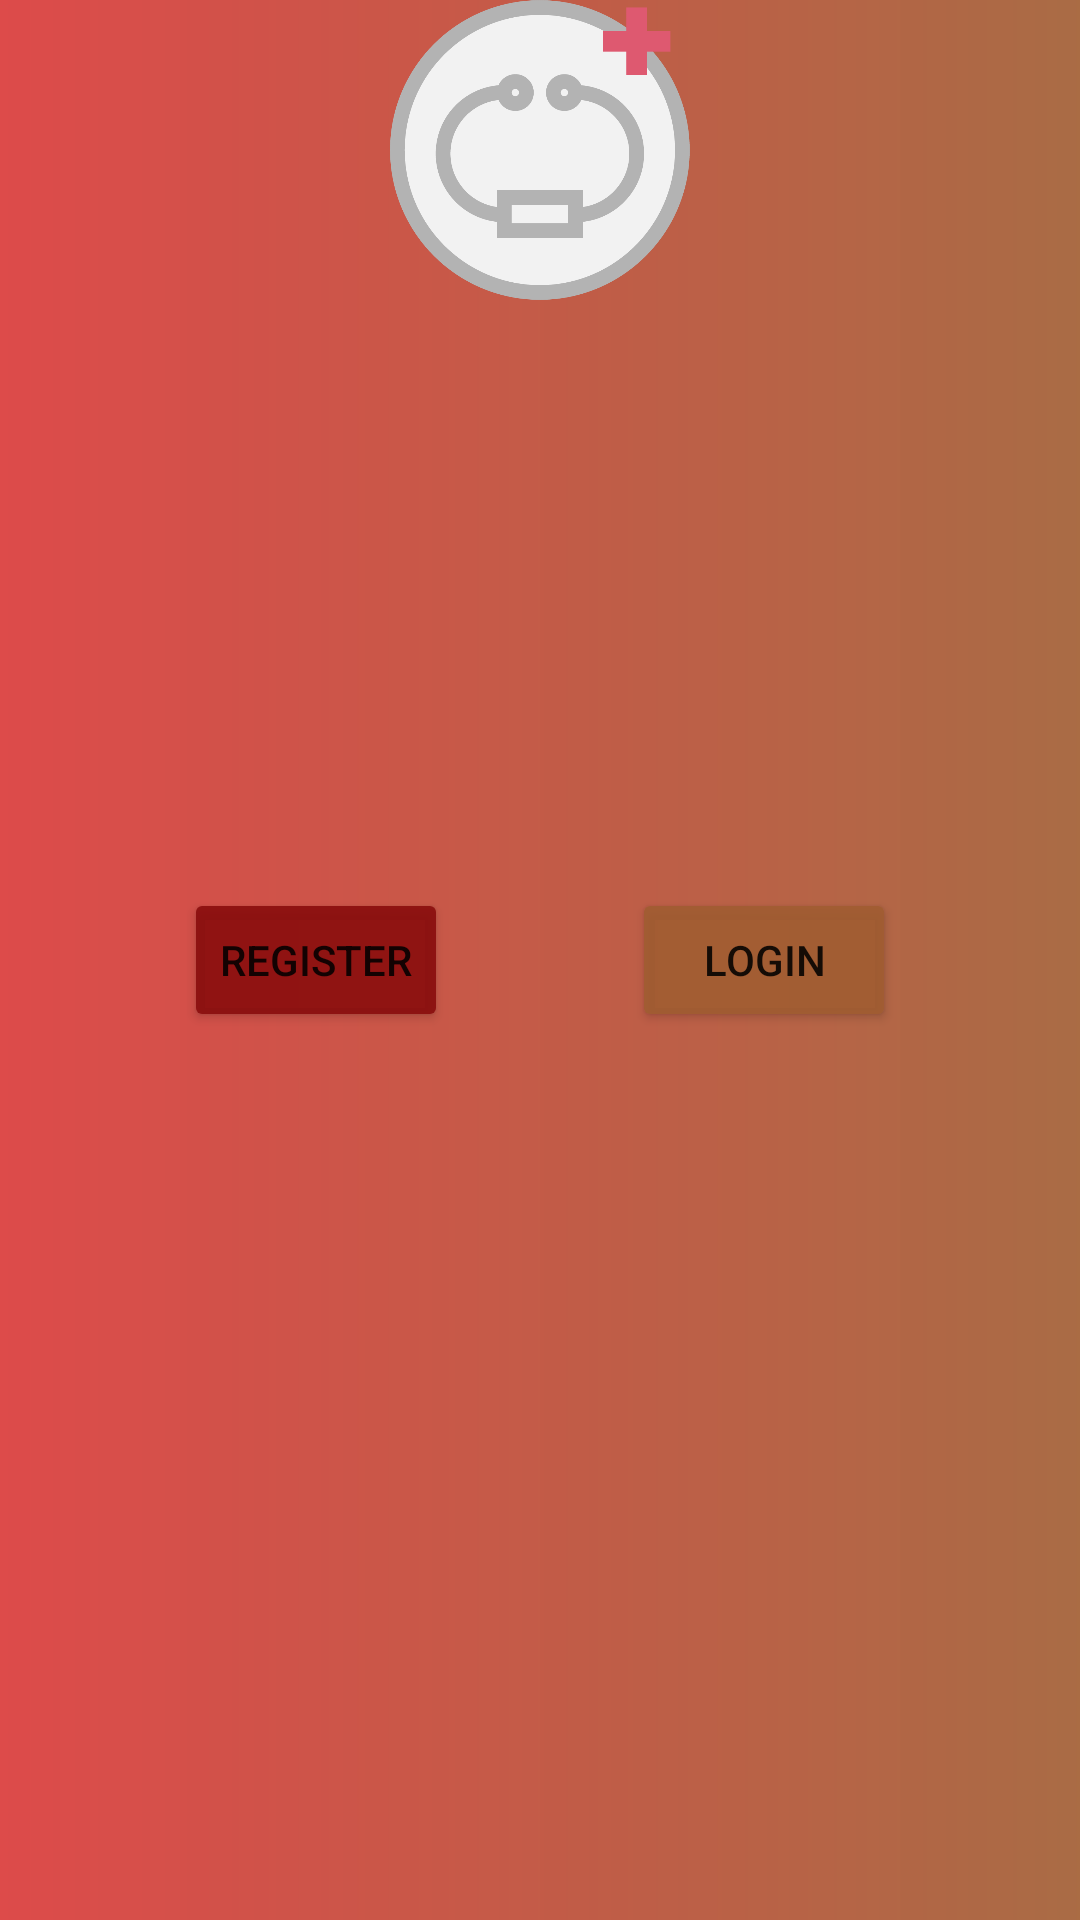

Point at icon controls on the screen. Image size 1080w x 1920h, points as (x,y).
doctor: (540,150)
